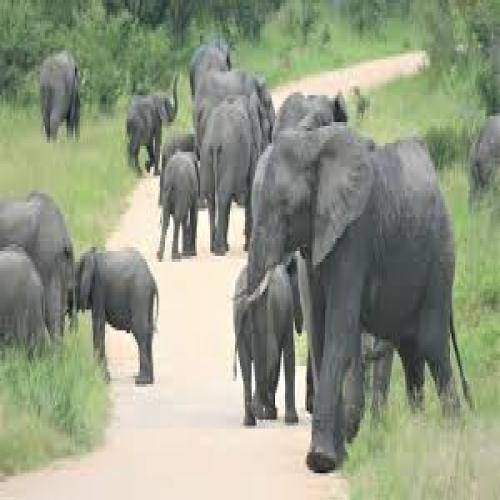asian_elephant-endangered: (233, 123, 474, 462), (231, 251, 306, 433), (65, 246, 160, 384), (0, 194, 77, 344), (198, 95, 267, 256), (192, 72, 276, 142), (126, 74, 179, 174), (0, 241, 45, 351), (160, 154, 201, 260), (38, 50, 82, 138), (188, 40, 233, 126)
